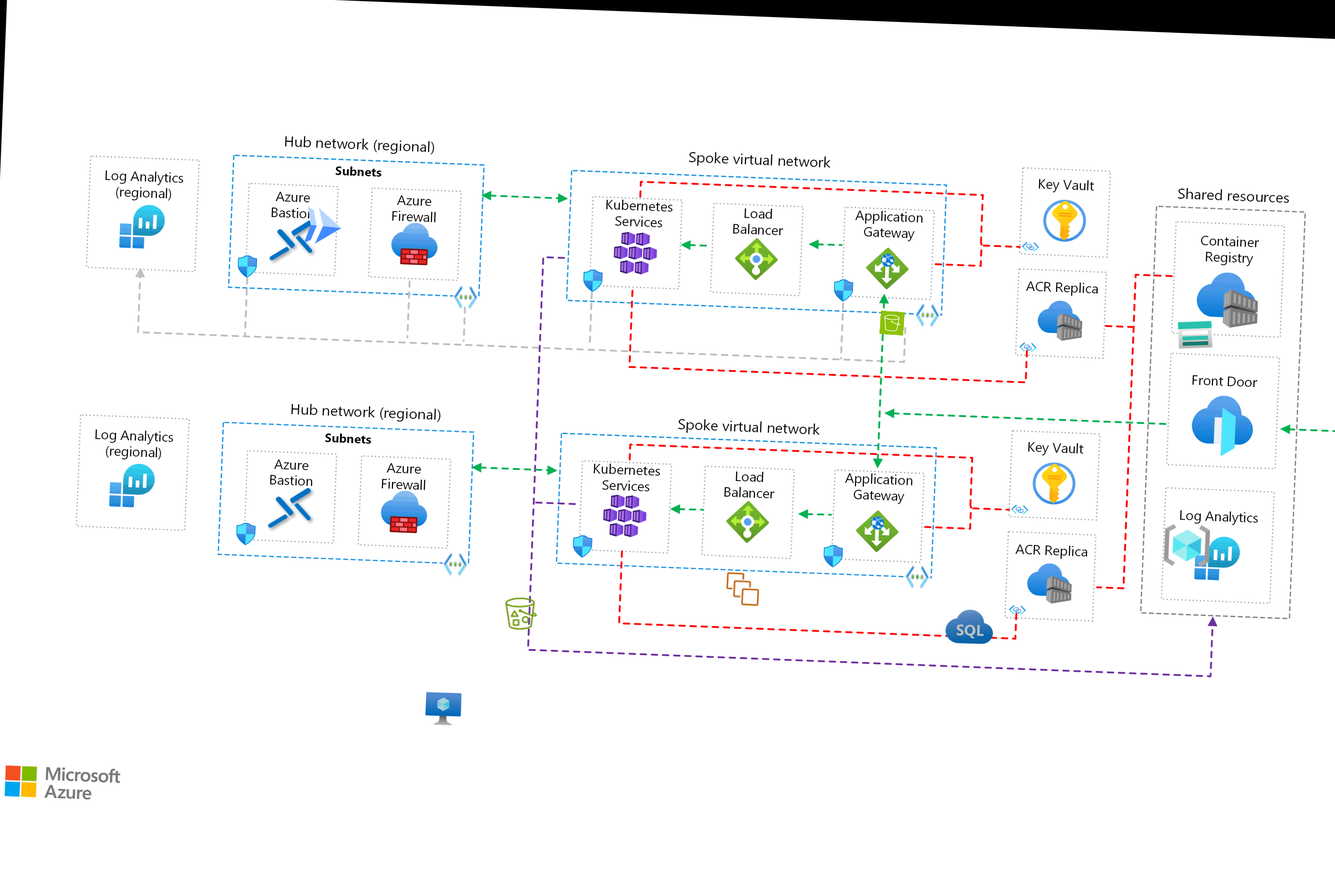aws_amazon_simple_storage_service: (879, 310, 905, 335)
aws_ec2_instances: (724, 570, 761, 607)
aws_simple_storage_service_bucket_with_objects: (501, 594, 541, 633)
azure_resource_groups: (1162, 521, 1212, 570)
azure_sql: (944, 603, 994, 652)
azure_storage_accounts: (1175, 315, 1215, 354)
azure_virtual_machine: (424, 691, 462, 728)
gcp_cloud_run: (296, 200, 349, 252)
